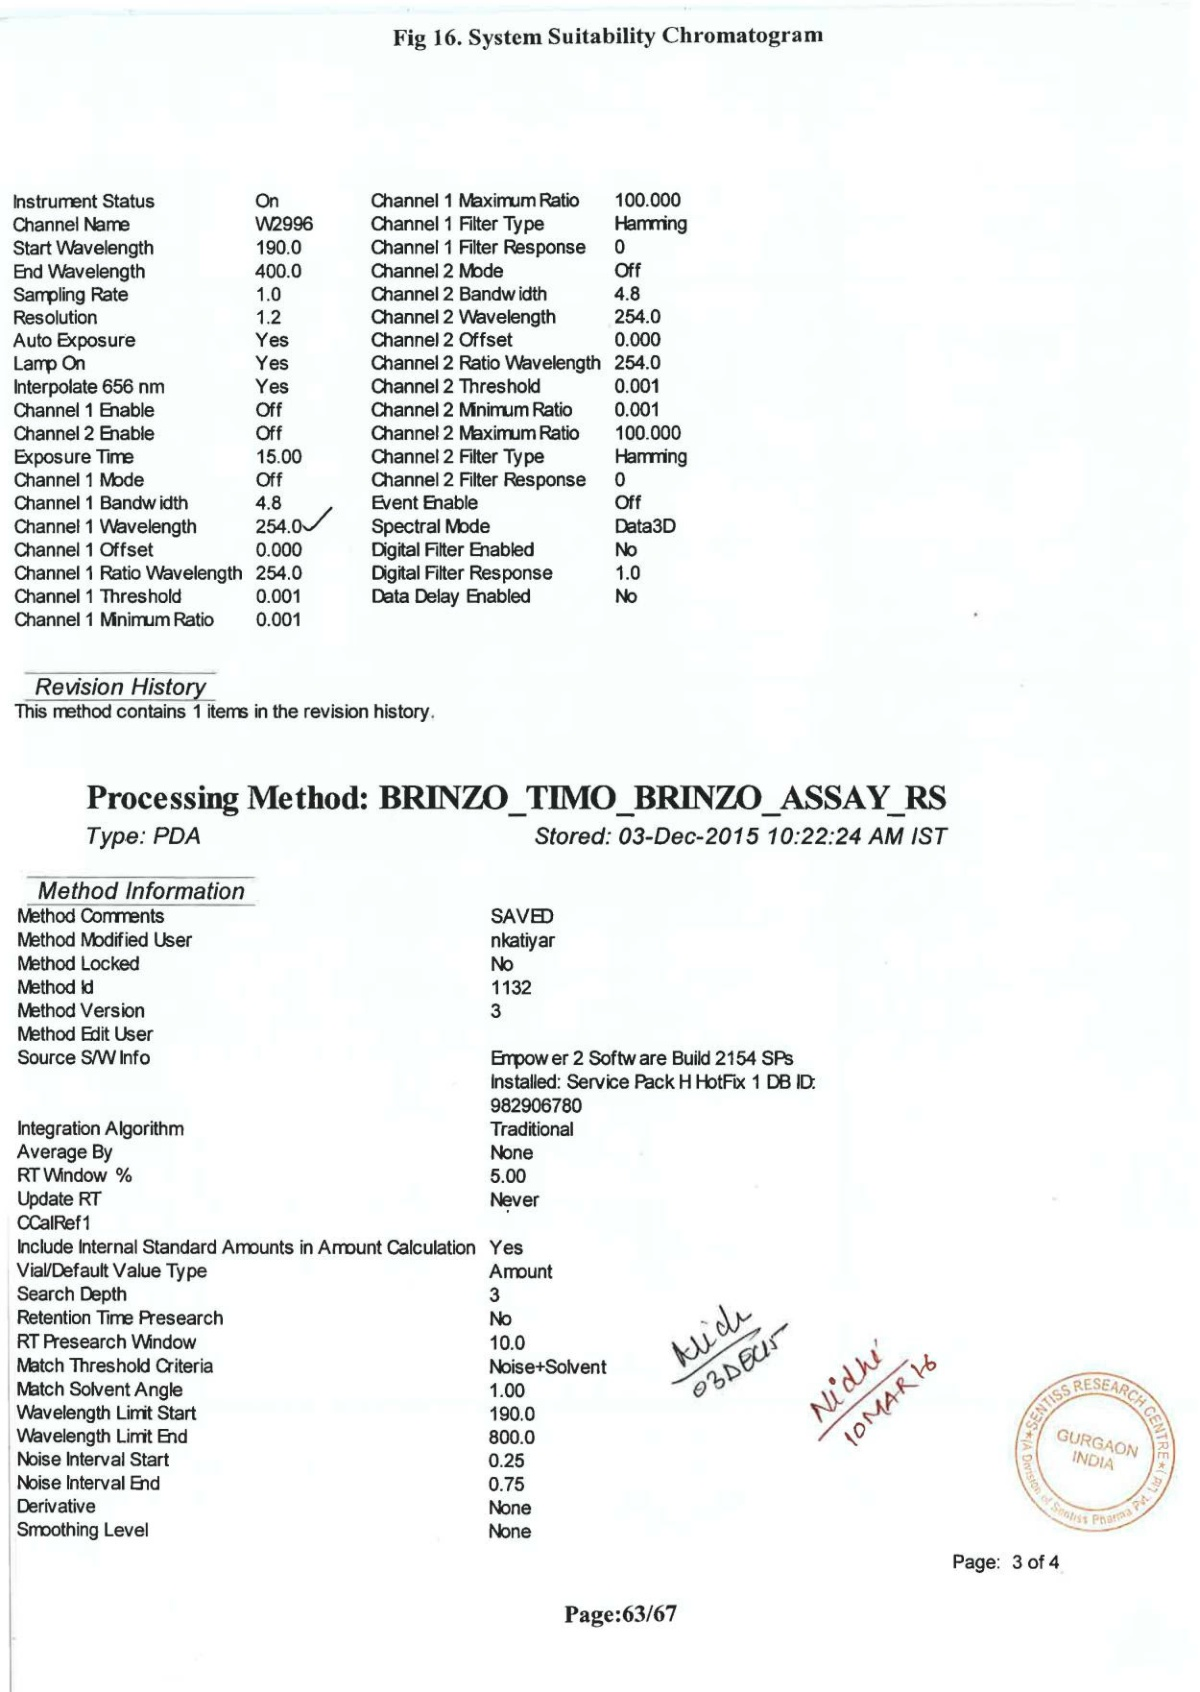nolines: (6, 905, 817, 1543), (10, 190, 690, 632)
